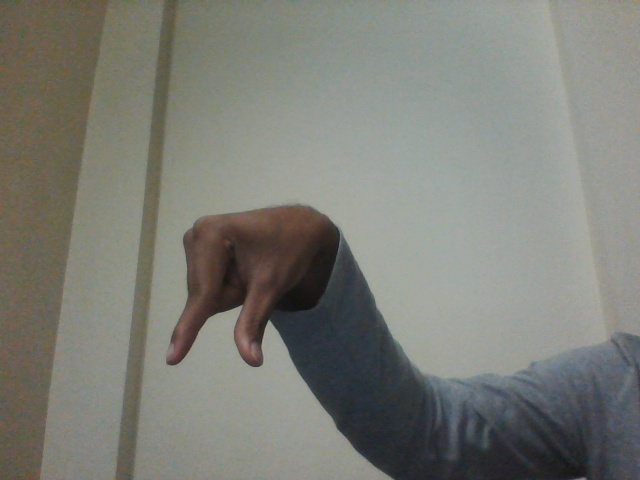q: (152, 195, 322, 372)
